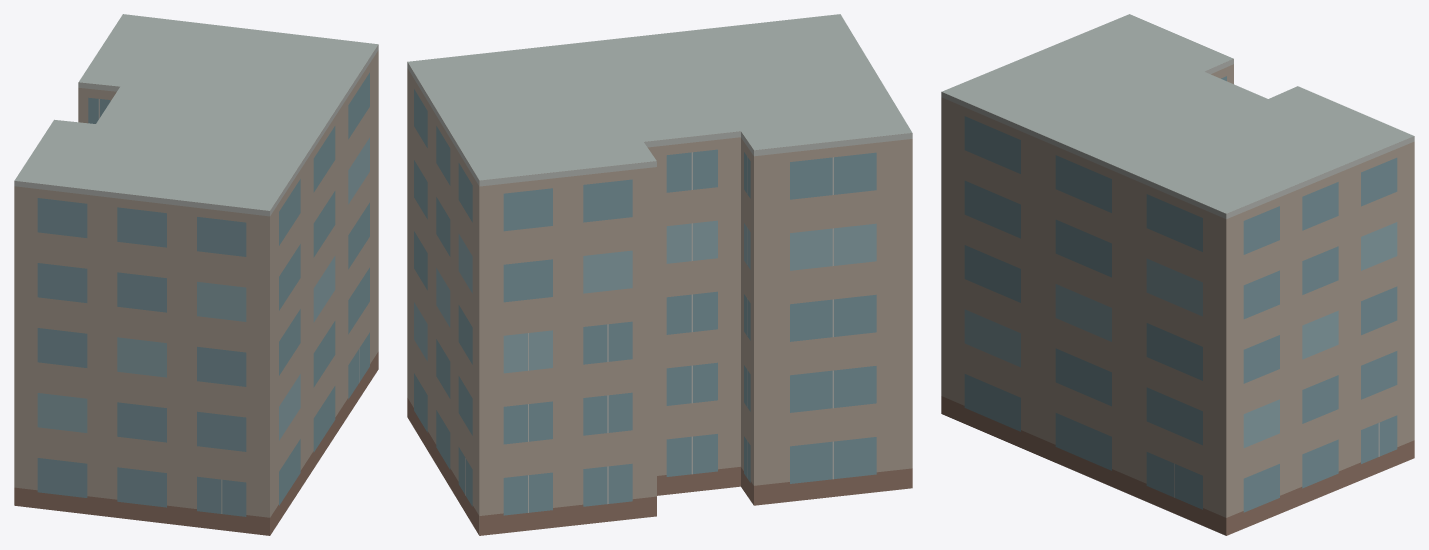
Rendered from survey-upis-32710561.glb.
The picture shows the model from 3 angles, left to right: view 1: azimuth 30°, elevation 25°; view 2: azimuth 150°, elevation 25°; view 3: azimuth 270°, elevation 25°; orthographic projection. The views are drawn at different scales.
Visible parts, largest first — view 1: survey-upis-32710561.tmp; view 2: survey-upis-32710561.tmp; view 3: survey-upis-32710561.tmp.
Boxes of the visible parts, left/top/right/bottom form: survey-upis-32710561.tmp: left=14, top=14, right=378, bottom=535; survey-upis-32710561.tmp: left=407, top=14, right=912, bottom=535; survey-upis-32710561.tmp: left=941, top=14, right=1414, bottom=535.
Size of the model in its own units: 19.3 by 14.5 by 19.31.
